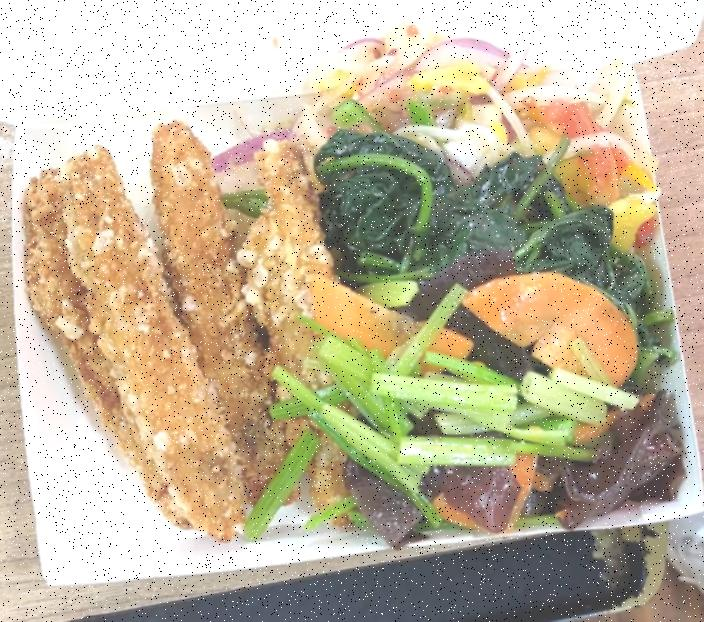box: (7, 49, 704, 600)
fried spanish mackerel: (23, 120, 349, 536)
side dish: (296, 272, 682, 555), (316, 135, 663, 292), (298, 44, 637, 166)
